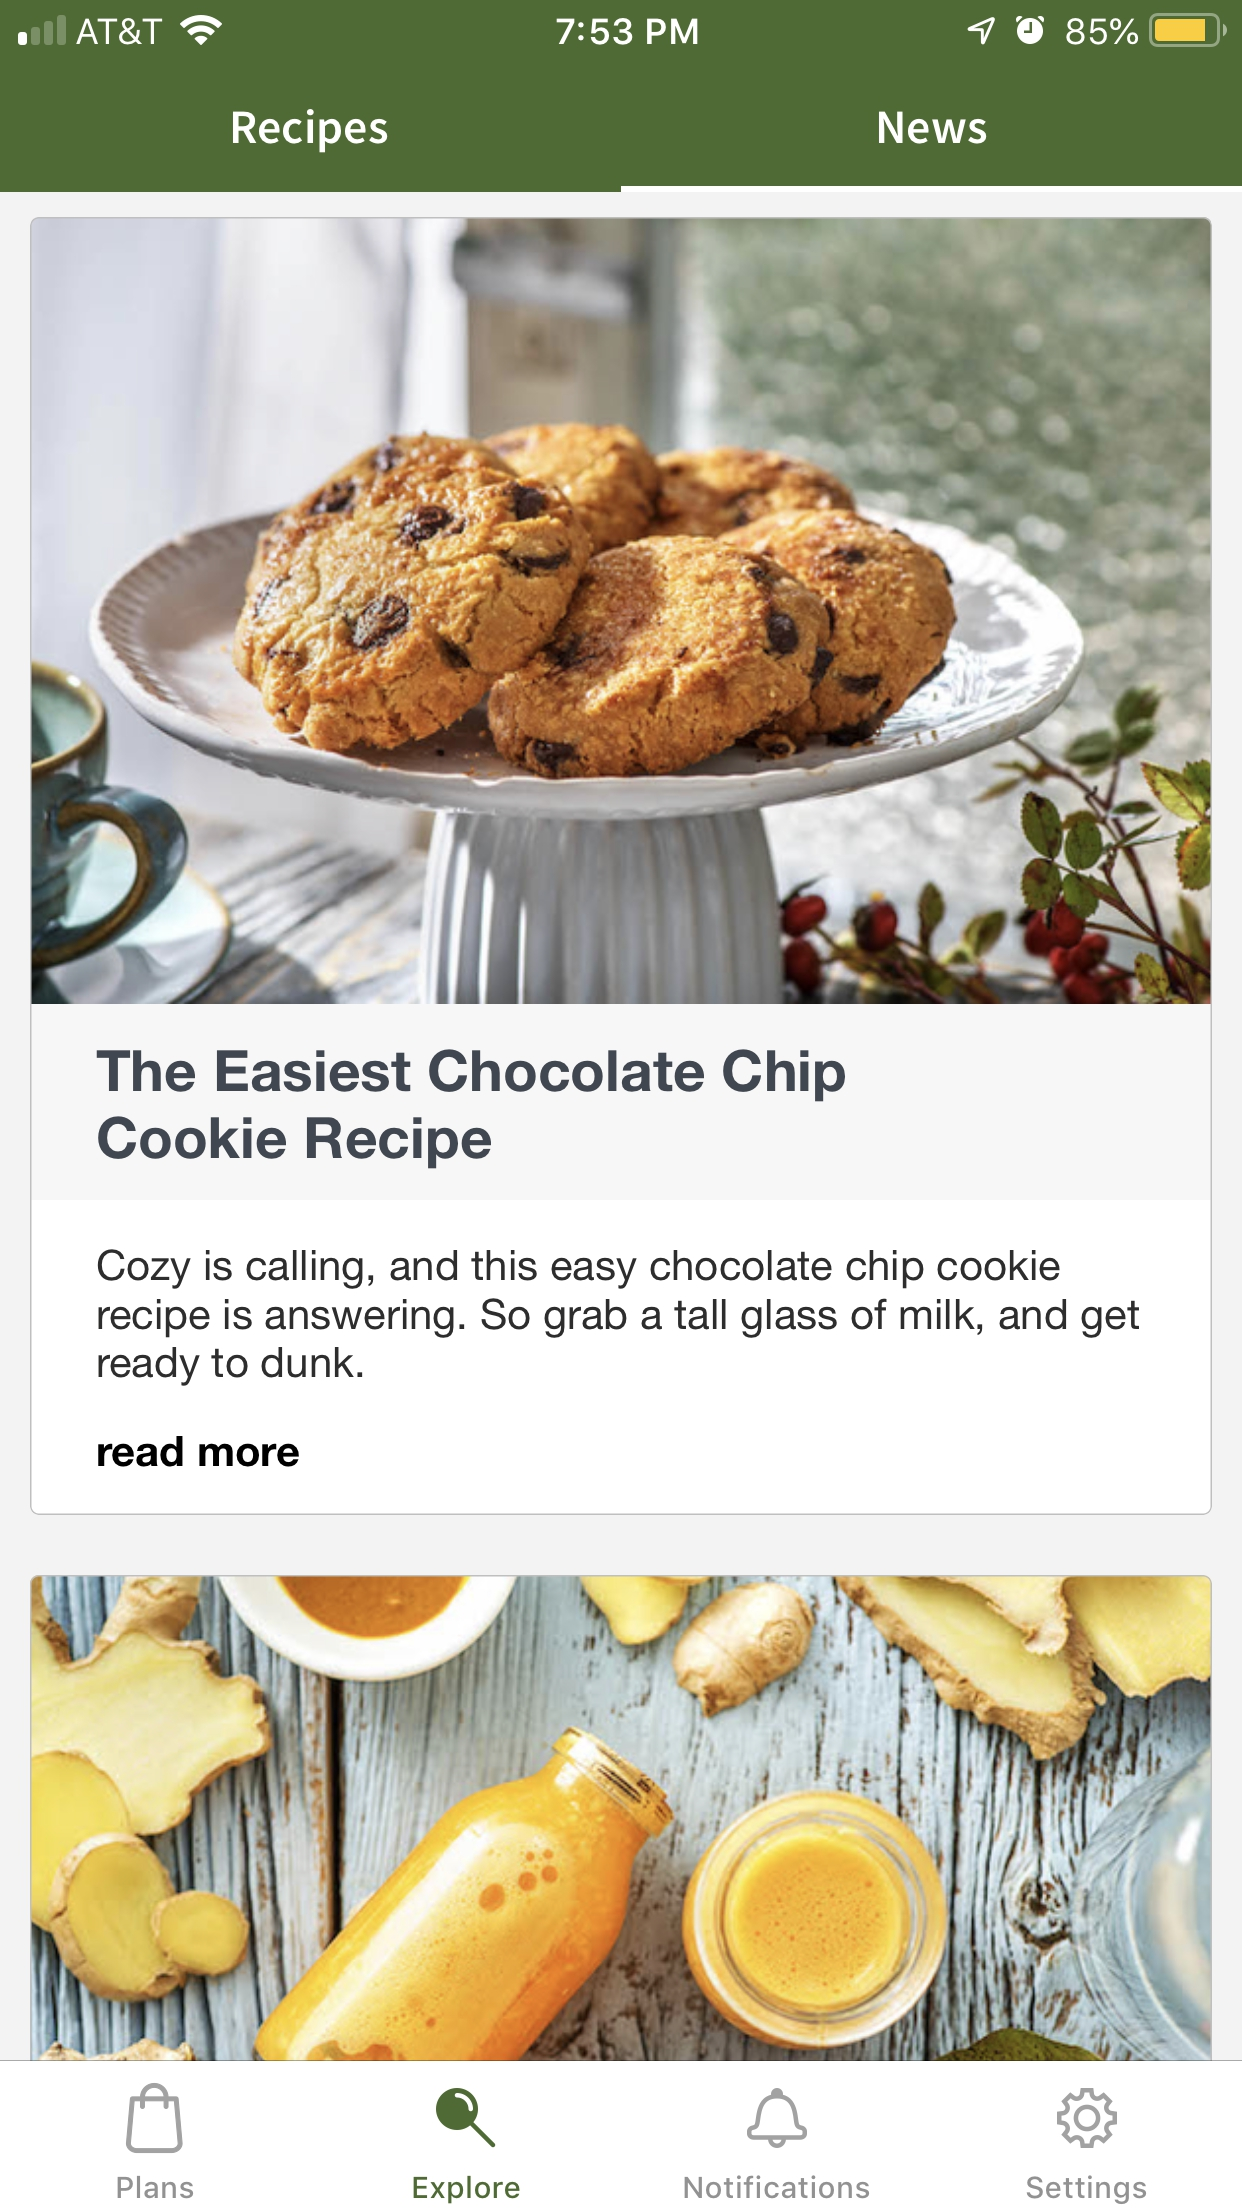Icon: (126, 2082, 183, 2153), (1055, 2087, 1118, 2149), (748, 2088, 808, 2149), (437, 2087, 496, 2147)
Image: (32, 220, 1210, 1005), (33, 1577, 1212, 2059)
Text: (99, 1248, 1140, 1388), (97, 1048, 846, 1171), (234, 109, 390, 155), (99, 1436, 300, 1468), (684, 2175, 870, 2199), (878, 111, 987, 146), (1027, 2175, 1146, 2205), (414, 2175, 522, 2203), (117, 2175, 196, 2199)
UpperTaskBar: (2, 2, 1242, 49)
